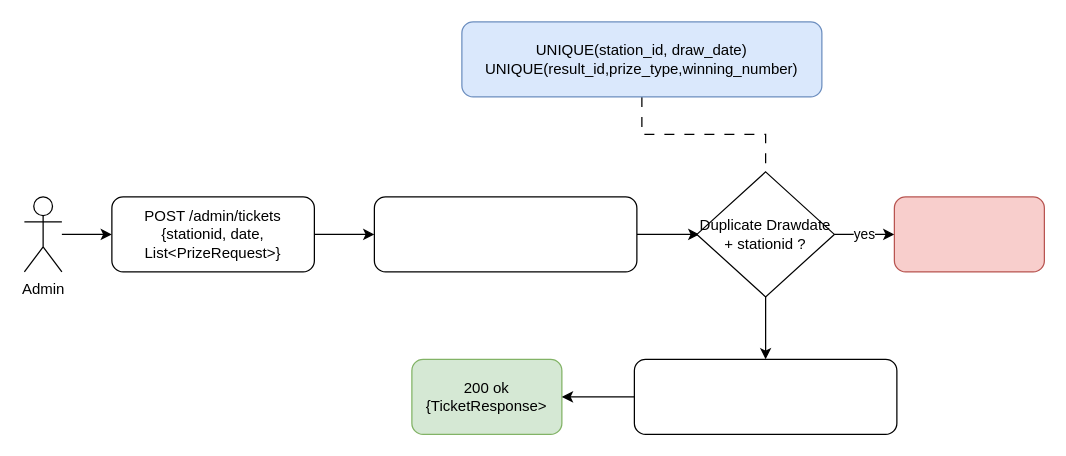
The diagram is 1066 pixels wide and 456 high, and some of its shapes have lost their labels. Here are the shapes that lost their labels. From the top down, the centre of each, then its label:
At (x=505, y=234): "Validate correct number of digit by prize type numbers only no duplicates".
At (x=968, y=234): "400 or 409".
At (x=765, y=396): "Save As unpublished".
